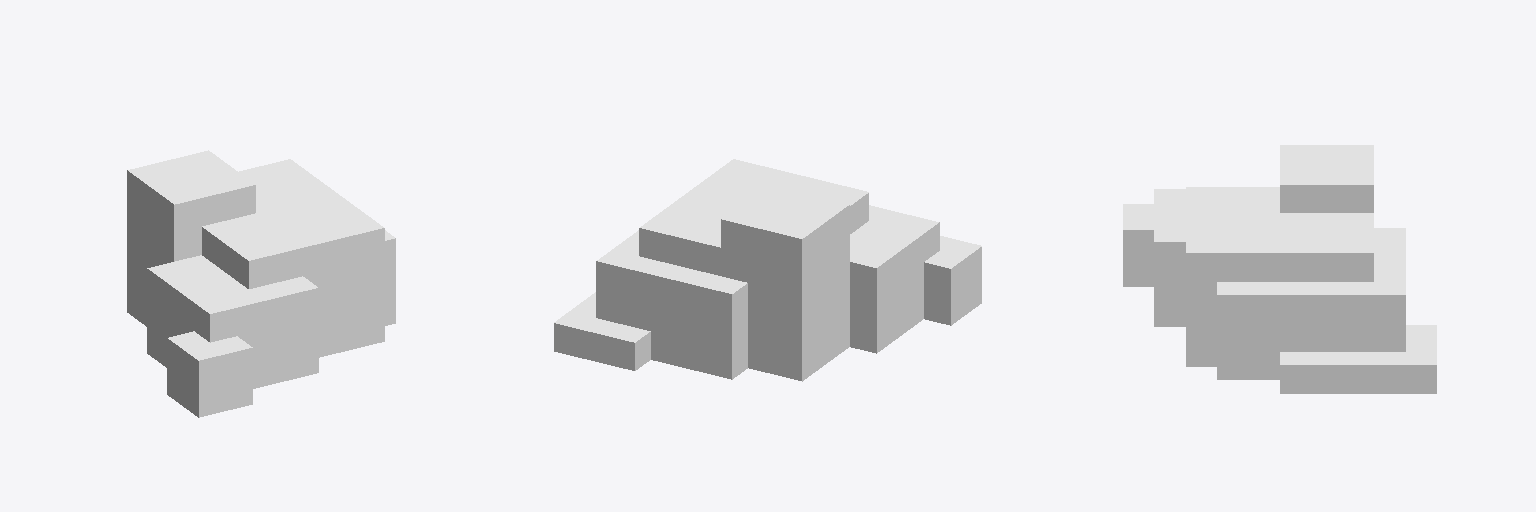
The model's file is rock_2.obj.
3 renders of one model, left to right at view 1: azimuth 30°, elevation 25°; view 2: azimuth 150°, elevation 25°; view 3: azimuth 270°, elevation 25°, orthographic.
Visible parts, largest first — view 1: object 1; view 2: object 1; view 3: object 1.
Boxes of the visible parts, box(x1,y1,x2,y2) form: object 1: box(127, 150, 395, 417); object 1: box(554, 159, 981, 381); object 1: box(1123, 145, 1436, 393).
Bounding box in the file's own units: 1 × 0.5 × 1.